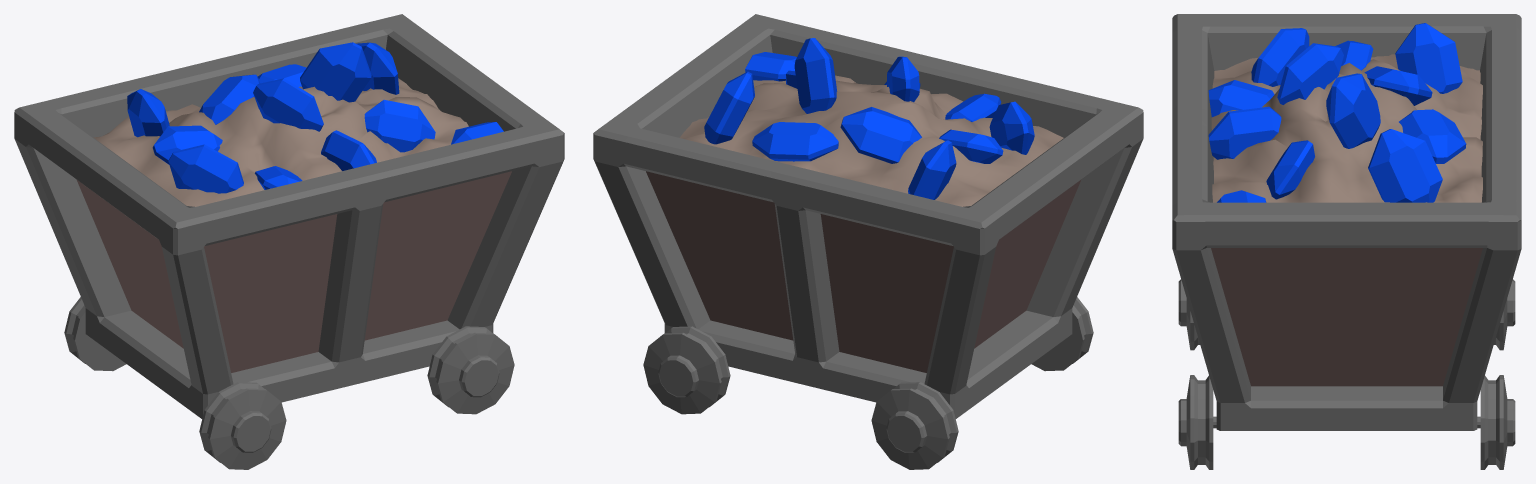
File: Minecart_Sapphire.fbx
The picture shows the model from 3 angles, left to right: view 1: azimuth 30°, elevation 25°; view 2: azimuth 150°, elevation 25°; view 3: azimuth 270°, elevation 25°; orthographic projection. The views are drawn at different scales.
Parts seen in each view (by area): view 1: Minecart_Sapphire_Dirt; view 2: Minecart_Sapphire_Dirt; view 3: Minecart_Sapphire_Dirt.
Boxes of the visible parts, <box> form: Minecart_Sapphire_Dirt: <box>14,14,564,469</box>; Minecart_Sapphire_Dirt: <box>593,14,1143,469</box>; Minecart_Sapphire_Dirt: <box>1172,14,1521,469</box>.
Bounding box in the file's own units: 247 × 201 × 177.
